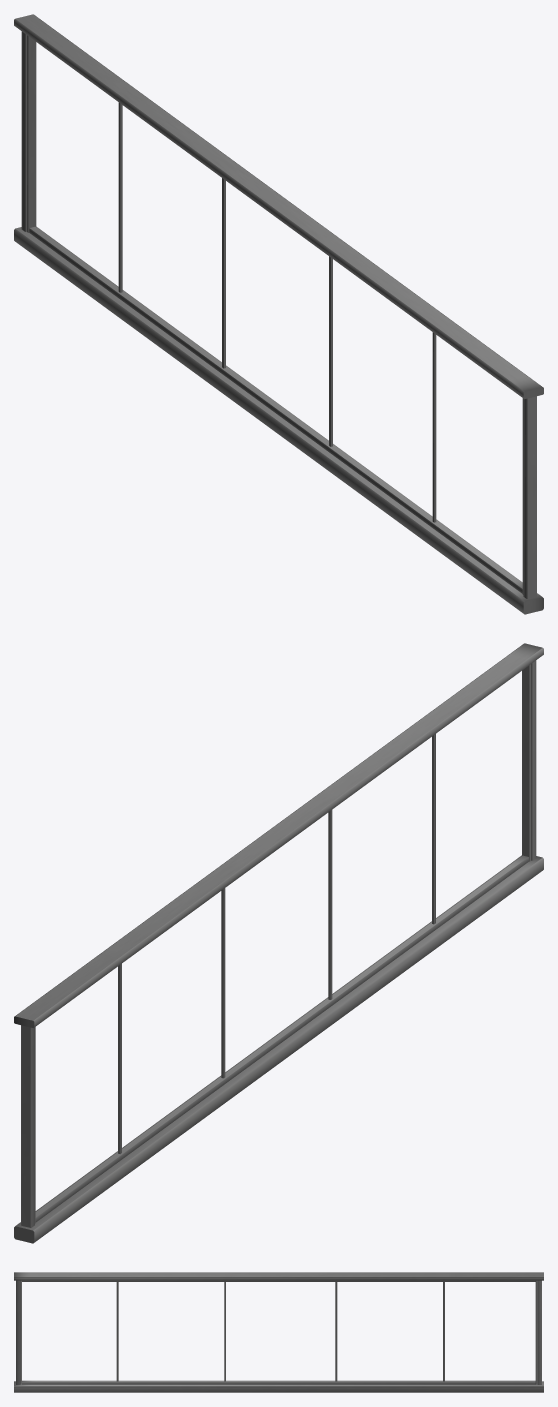
File: aws_ShopWindow_01_visual.DAE
3 renders of one model, top to bottom at view 1: azimuth 30°, elevation 25°; view 2: azimuth 150°, elevation 25°; view 3: azimuth 270°, elevation 25°, orthographic. The views are drawn at different scales.
Visible parts, largest first — view 1: aws_ShopWindow_01_visual; view 2: aws_ShopWindow_01_visual; view 3: aws_ShopWindow_01_visual.
Boxes of the visible parts, x1=… form: aws_ShopWindow_01_visual: x1=14, y1=14, x2=543, y2=614; aws_ShopWindow_01_visual: x1=14, y1=643, x2=543, y2=1243; aws_ShopWindow_01_visual: x1=14, y1=1272, x2=543, y2=1392.
Size of the model in its own units: 32.49 by 1413 by 341.
